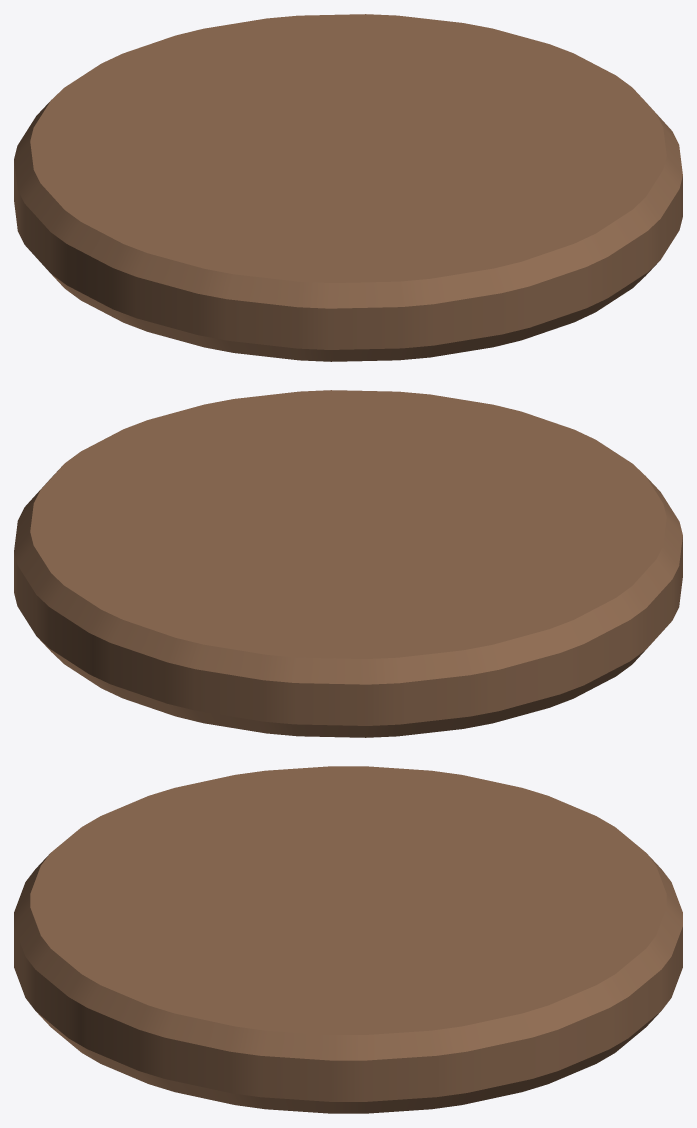
The model's file is BurgerPattyCooked.fbx.
The picture shows the model from 3 angles, top to bottom: view 1: azimuth 30°, elevation 25°; view 2: azimuth 150°, elevation 25°; view 3: azimuth 270°, elevation 25°; orthographic projection.
Parts seen in each view (by area): view 1: pCylinder1; view 2: pCylinder1; view 3: pCylinder1.
Part boxes in pixels (bbox=[...]): pCylinder1: bbox=[14, 14, 682, 361]; pCylinder1: bbox=[14, 390, 682, 737]; pCylinder1: bbox=[14, 766, 682, 1113].
Bounding box in the file's own units: 5.35 × 0.6937 × 5.35.
